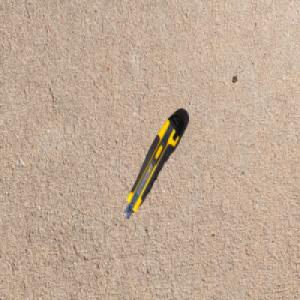Cutter: (124, 112, 186, 221)
